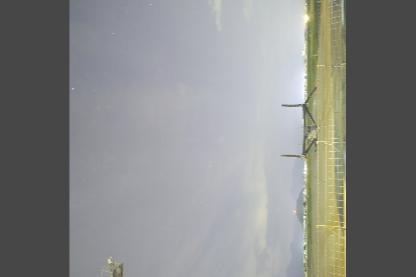Tornado: (280, 84, 317, 158)
